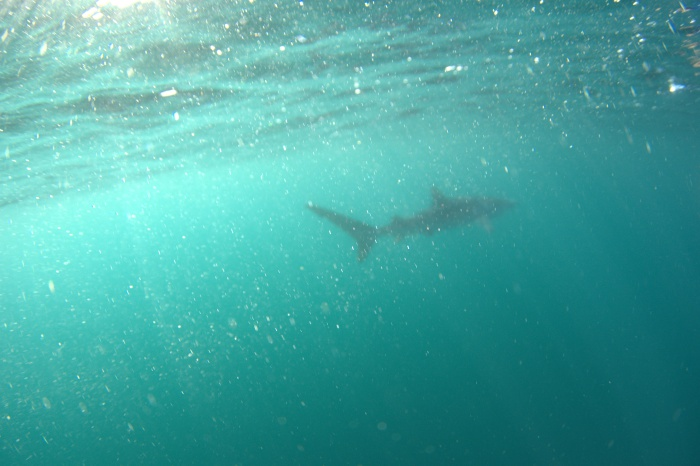Azul: (301, 177, 581, 274)
